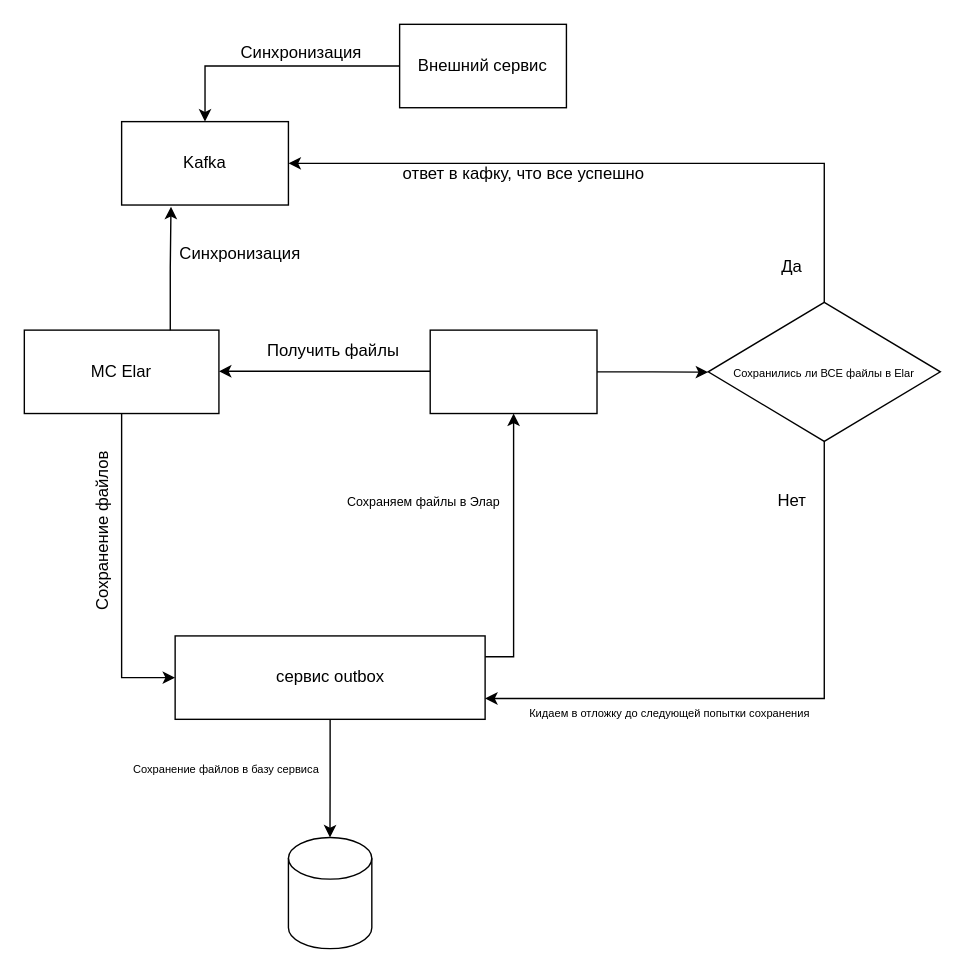
The diagram is 965 pixels wide and 973 high, and some of its shapes have lost their labels. The centre of each missing label's shape, as x and y in pixels:
"БД, S3" goes at point 329,892.
"Хранилище Elar" goes at point 513,371.
